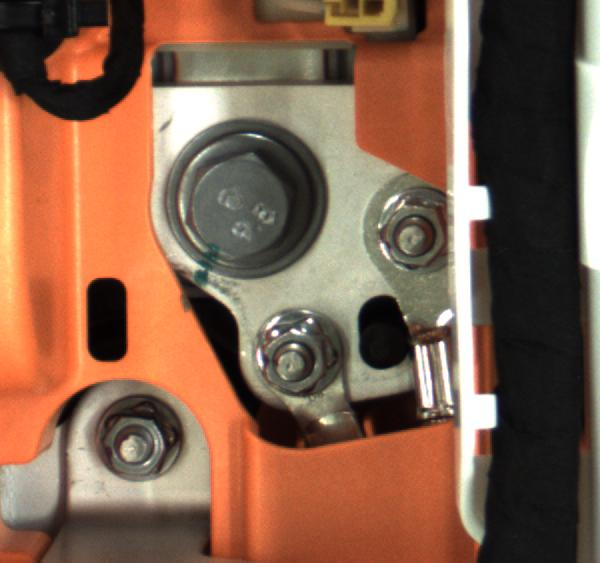nut_b: (157, 121, 322, 272)
screw_s: (242, 300, 356, 404), (92, 390, 193, 487), (369, 189, 459, 286)
